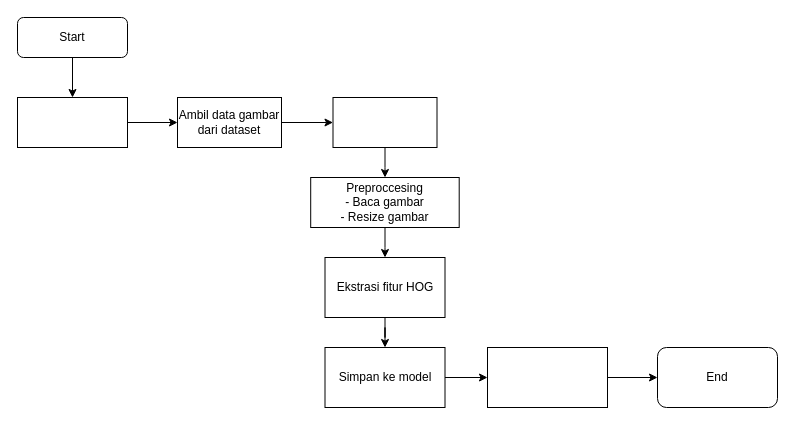
The diagram is 795 pixels wide and 425 high, and some of its shapes have lost their labels. The box of each missing label's shape, as (x1, y1, x2, y2) in pixels:
Cari gambar tambahan: (332, 96, 437, 148)
inisialisasi model: (16, 96, 128, 148)
Ubah model ke format .pkl dan simpan ke storage: (486, 346, 608, 408)
